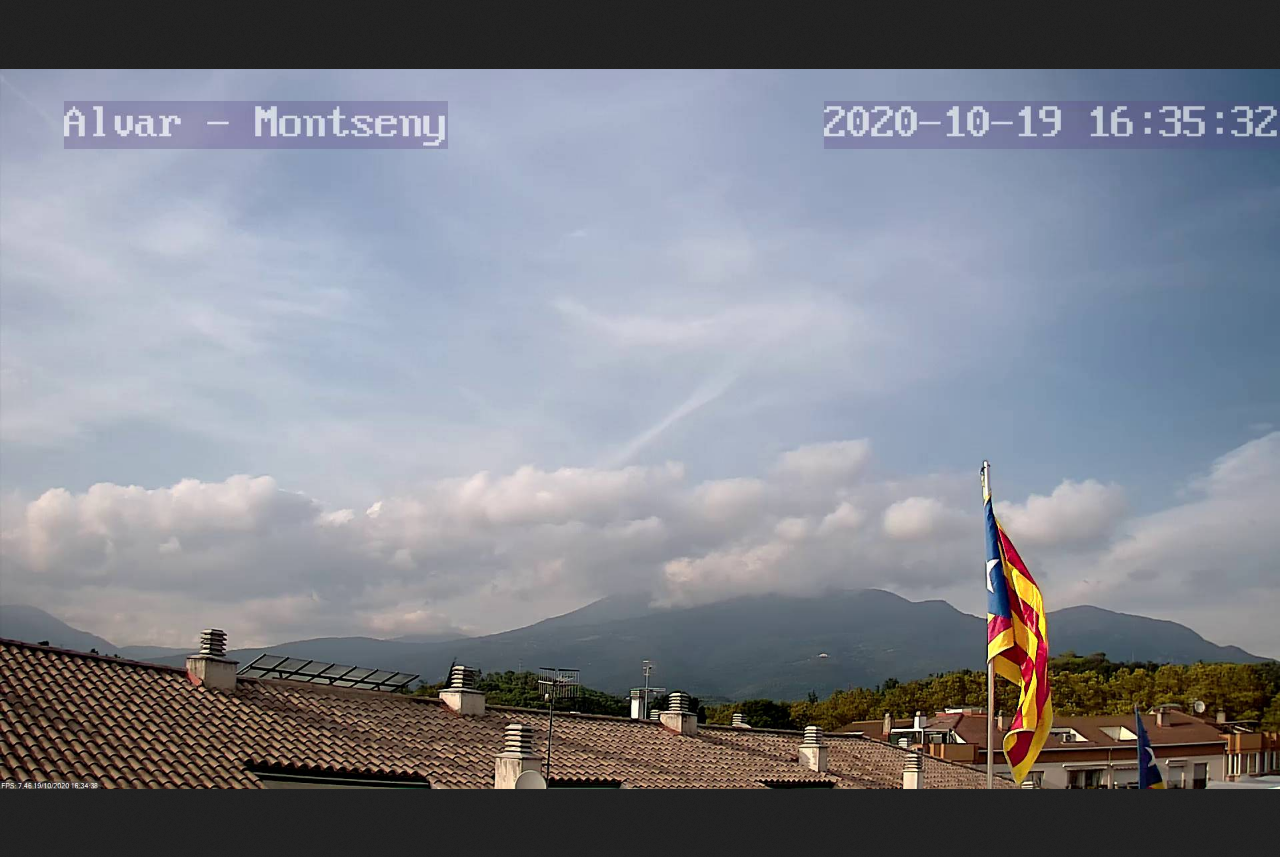no: (963, 453, 1066, 795)
